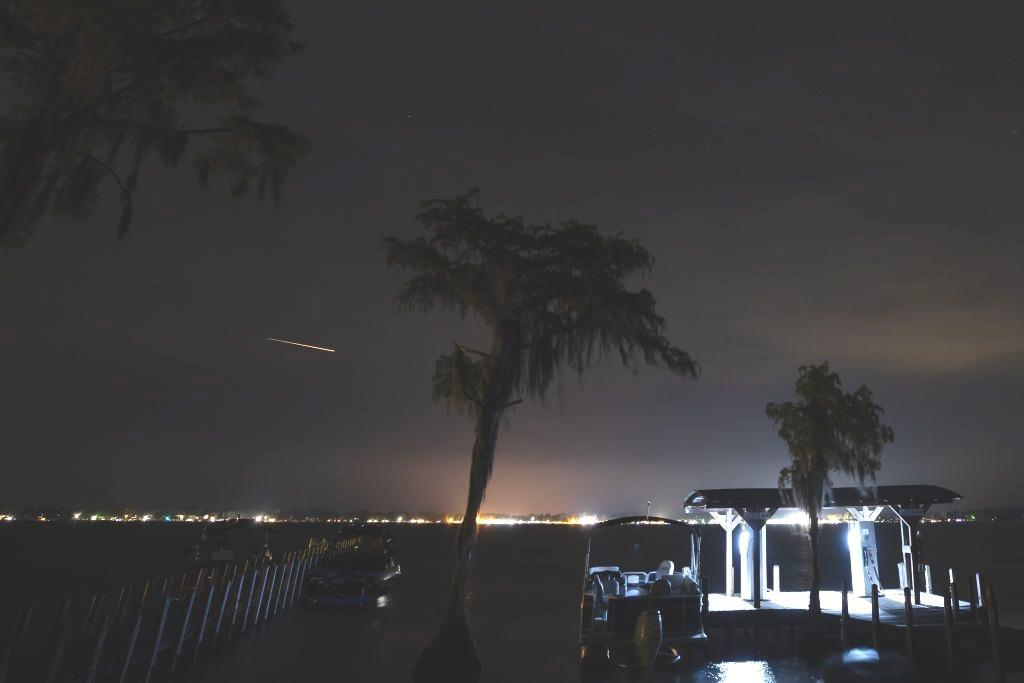meteorite: (237, 327, 358, 364)
